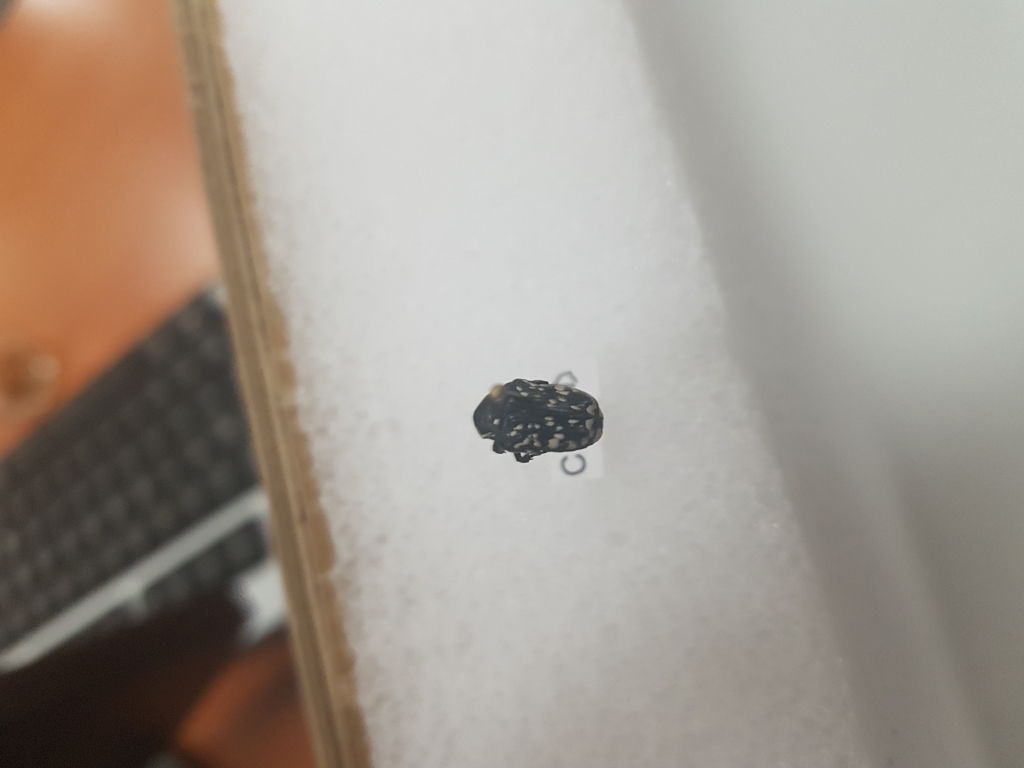Oxythyrea_albopicta: (469, 372, 609, 468)
